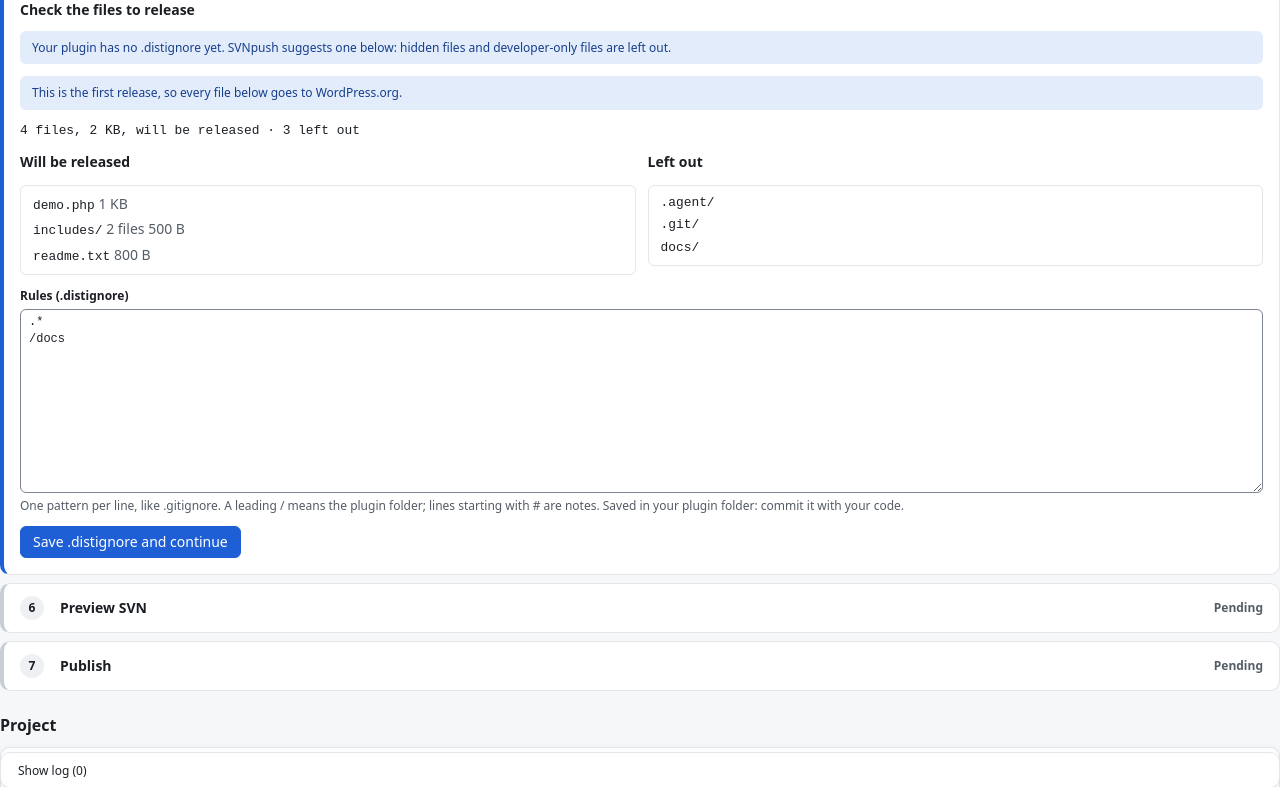
Test: Release file check › recalculates the lists when the rules change
(page scrolled)
Type "/includes" into the text box labelled "Rules (.distignore)" at [642, 401], box left=20, top=309, right=1263, bottom=493
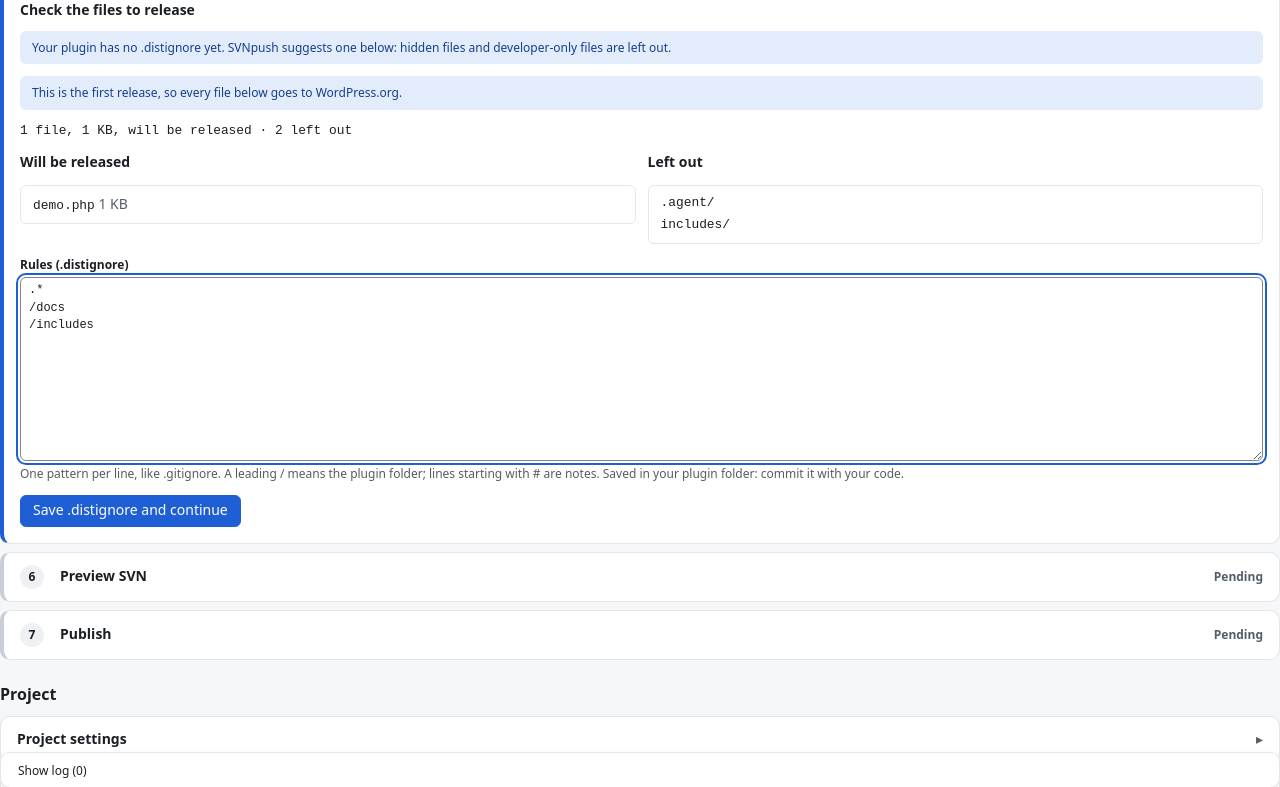
Now the text "1 file, 1 KB, will be released · 2 left out" is shown, box left=20, top=122, right=352, bottom=138
